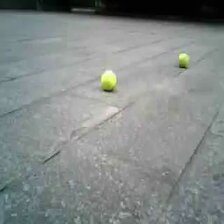tennis: (101, 70, 116, 89), (177, 53, 190, 68)
